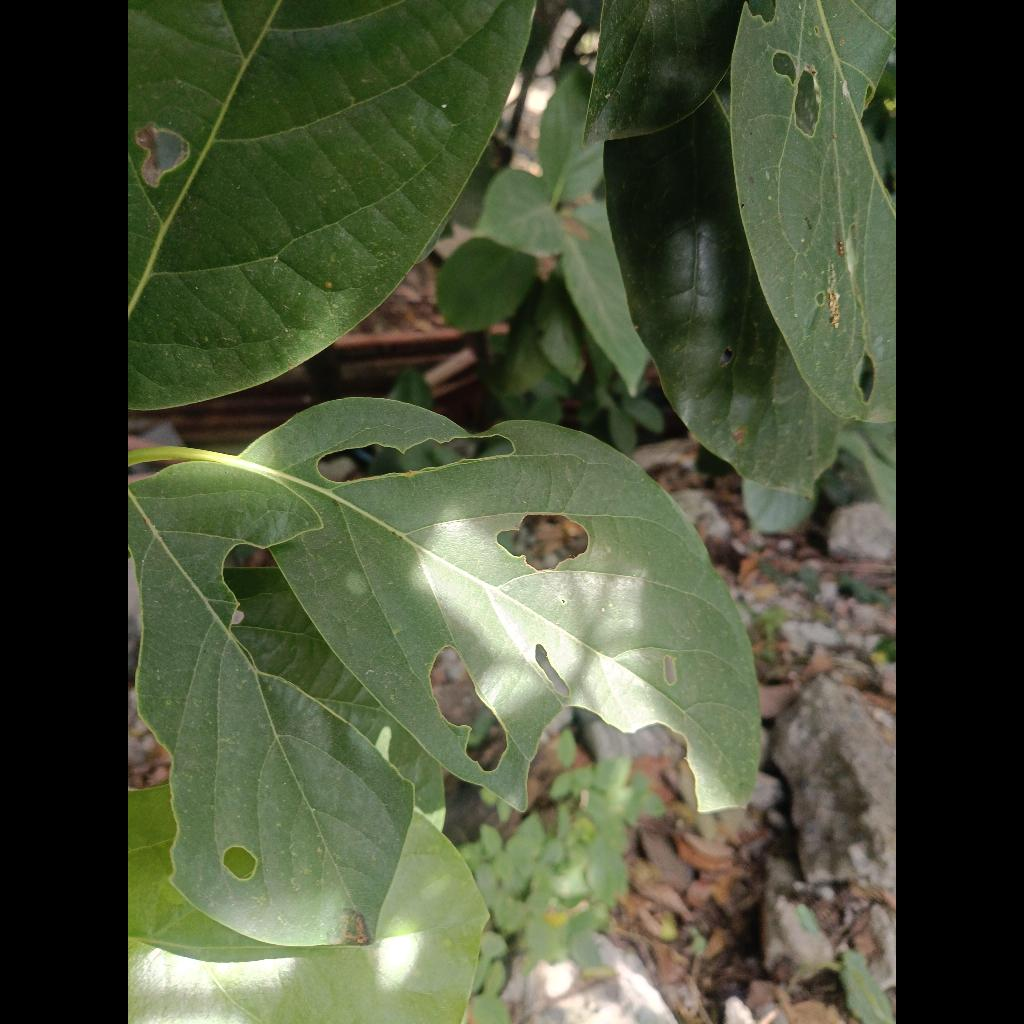Pest Infested: (131, 399, 760, 811), (128, 463, 414, 946)
